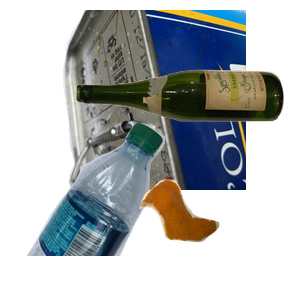glass: (74, 67, 300, 181)
metal: (60, 10, 300, 190)
plastic: (24, 120, 182, 300)
trash: (137, 177, 300, 300)
